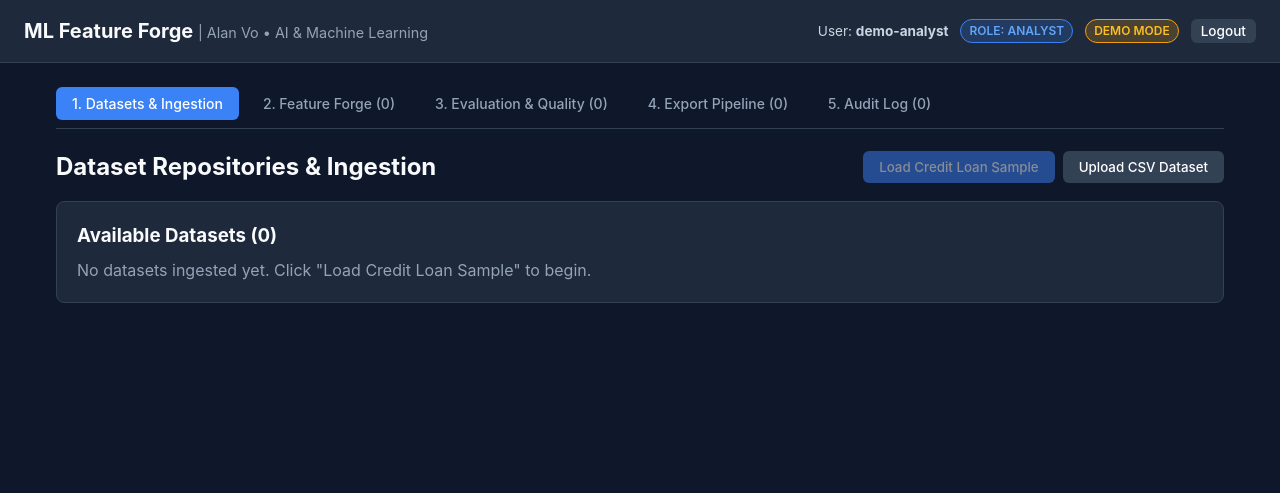
Scenario: ML Feature Forge Frontend Application › switches navigation tabs and displays candidate features
Step 1. Click the button "2. Feature Forge (0)" → {"x": 329, "y": 104}, box [247,87,411,120]
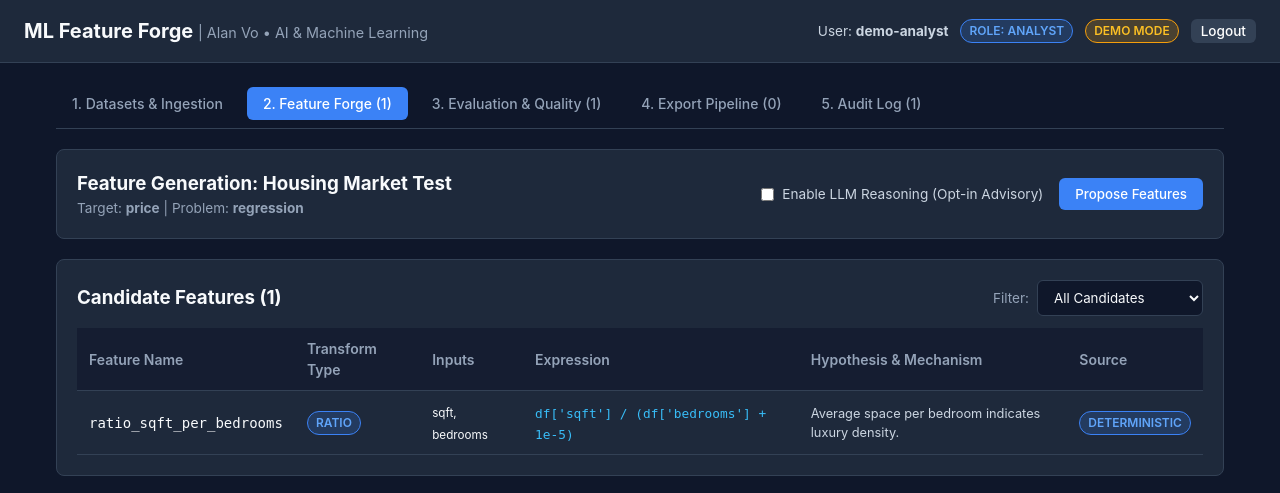
Expected: the text "ratio_sqft_per_bedrooms" is shown, [89,415,283,431]
Expected: the text "Average space per bedroom indicates luxury density." is shown, [799,391,1067,455]
